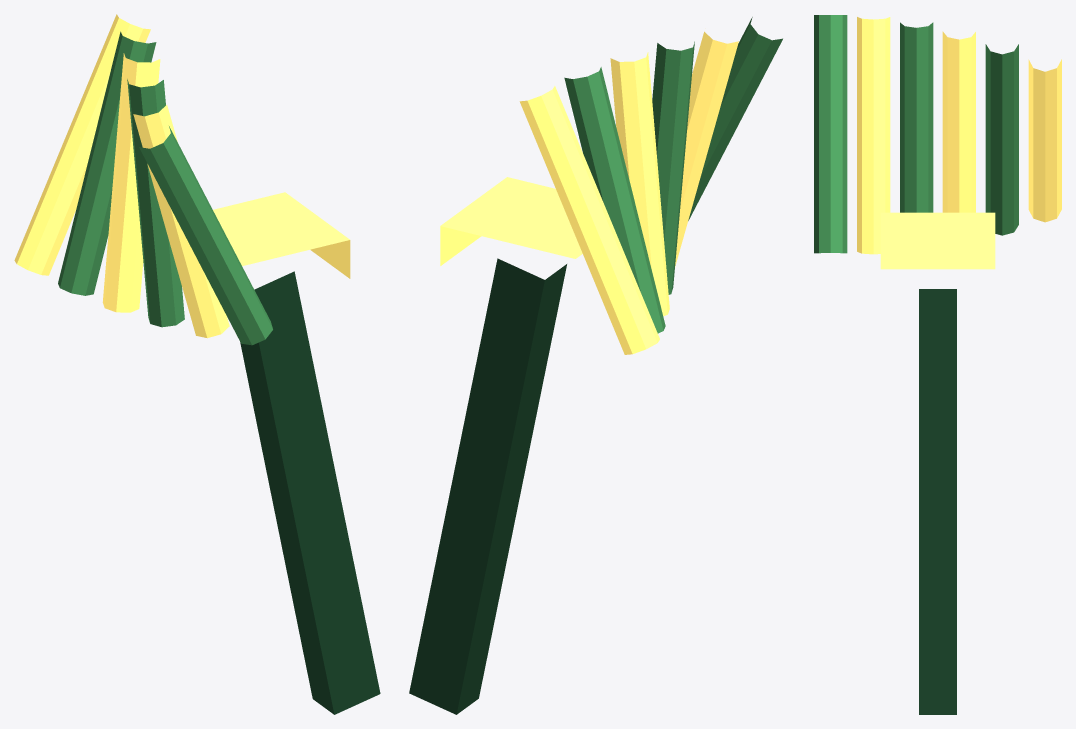
File: medusa.glb
3 views of the same model, side by side, from view 1: azimuth 30°, elevation 25°; view 2: azimuth 150°, elevation 25°; view 3: azimuth 270°, elevation 25° (orthographic). The views are drawn at different scales.
Parts seen in each view (by area): view 1: medusa-gorgon-bow, medusa-snake-5, medusa-snake-0, medusa-snake-1, medusa-snake-2, medusa-stone-gaze, medusa-snake-3, medusa-snake-4; view 2: medusa-gorgon-bow, medusa-snake-0, medusa-snake-1, medusa-stone-gaze, medusa-snake-2, medusa-snake-3, medusa-snake-4, medusa-snake-5; view 3: medusa-gorgon-bow, medusa-snake-5, medusa-snake-4, medusa-stone-gaze, medusa-snake-3, medusa-snake-1, medusa-snake-2, medusa-snake-0.
Boxes of the visible parts, bbox=[...] form: medusa-gorgon-bow: bbox=[240, 271, 380, 714]; medusa-snake-5: bbox=[139, 126, 272, 345]; medusa-snake-0: bbox=[14, 14, 150, 275]; medusa-snake-1: bbox=[58, 31, 156, 295]; medusa-snake-2: bbox=[102, 53, 160, 312]; medusa-stone-gaze: bbox=[213, 192, 350, 278]; medusa-snake-3: bbox=[127, 79, 184, 327]; medusa-snake-4: bbox=[133, 105, 229, 338]; medusa-gorgon-bow: bbox=[409, 258, 566, 714]; medusa-snake-0: bbox=[519, 86, 659, 354]; medusa-snake-1: bbox=[564, 67, 665, 333]; medusa-stone-gaze: bbox=[440, 177, 582, 265]; medusa-snake-2: bbox=[610, 52, 669, 316]; medusa-snake-3: bbox=[652, 41, 694, 294]; medusa-snake-4: bbox=[675, 31, 738, 266]; medusa-snake-5: bbox=[688, 17, 782, 220]; medusa-gorgon-bow: bbox=[919, 289, 956, 714]; medusa-snake-5: bbox=[814, 15, 847, 253]; medusa-snake-4: bbox=[857, 17, 890, 254]; medusa-stone-gaze: bbox=[880, 212, 995, 269]; medusa-snake-3: bbox=[900, 22, 933, 212]; medusa-snake-1: bbox=[985, 44, 1018, 235]; medusa-snake-2: bbox=[942, 31, 975, 212]; medusa-snake-0: bbox=[1028, 59, 1061, 222].
Size of the model in its own units: 0.6206 by 1.39 by 0.52.
